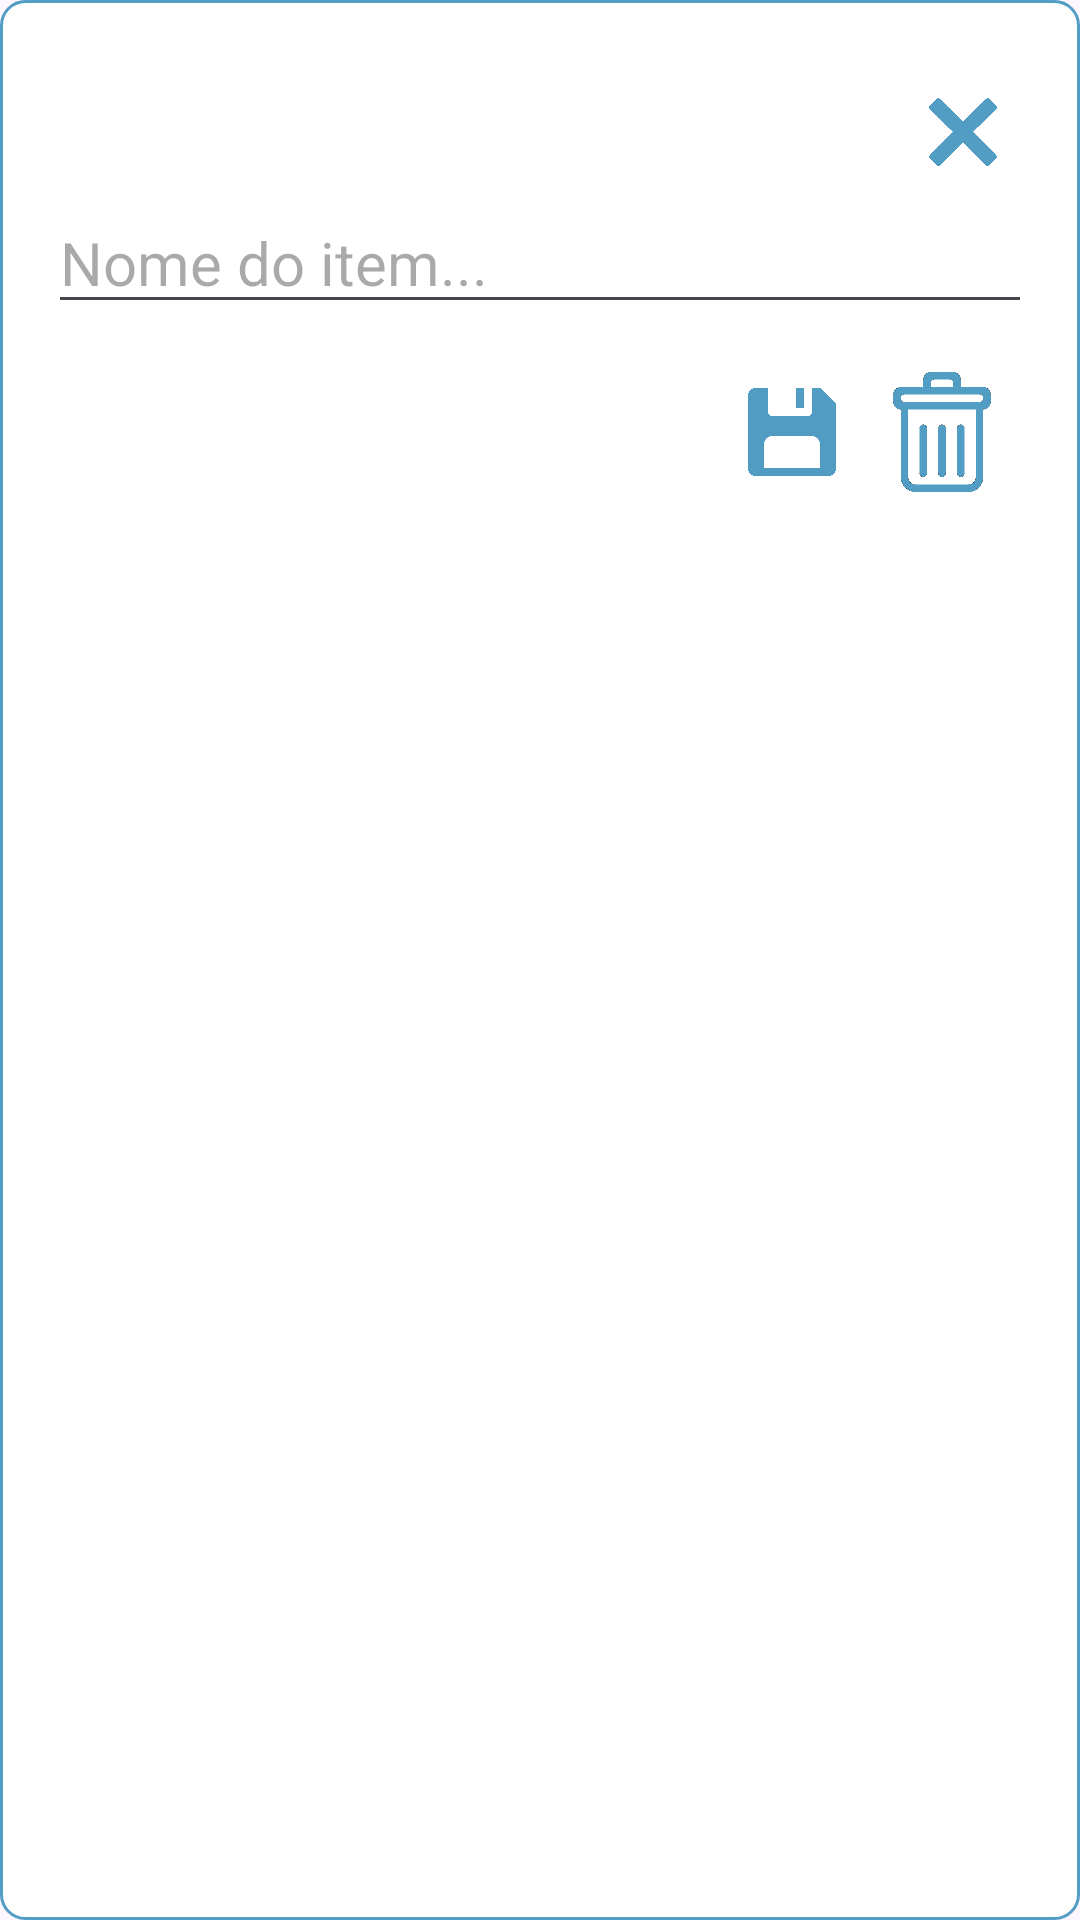

Named icons in this screenshot (1080w x 1920h) and their bounding boxes, BBox(x1, y1, x2, y2):
disket: BBox(748, 388, 836, 476)
lixeira: BBox(893, 372, 991, 492)
